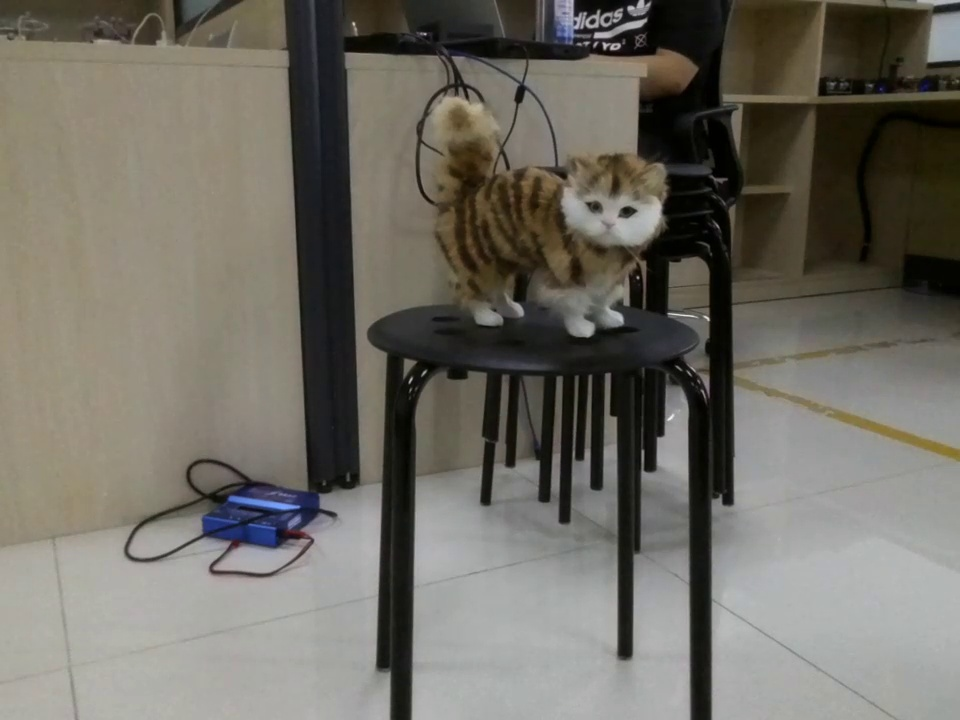cat: (428, 93, 673, 340)
